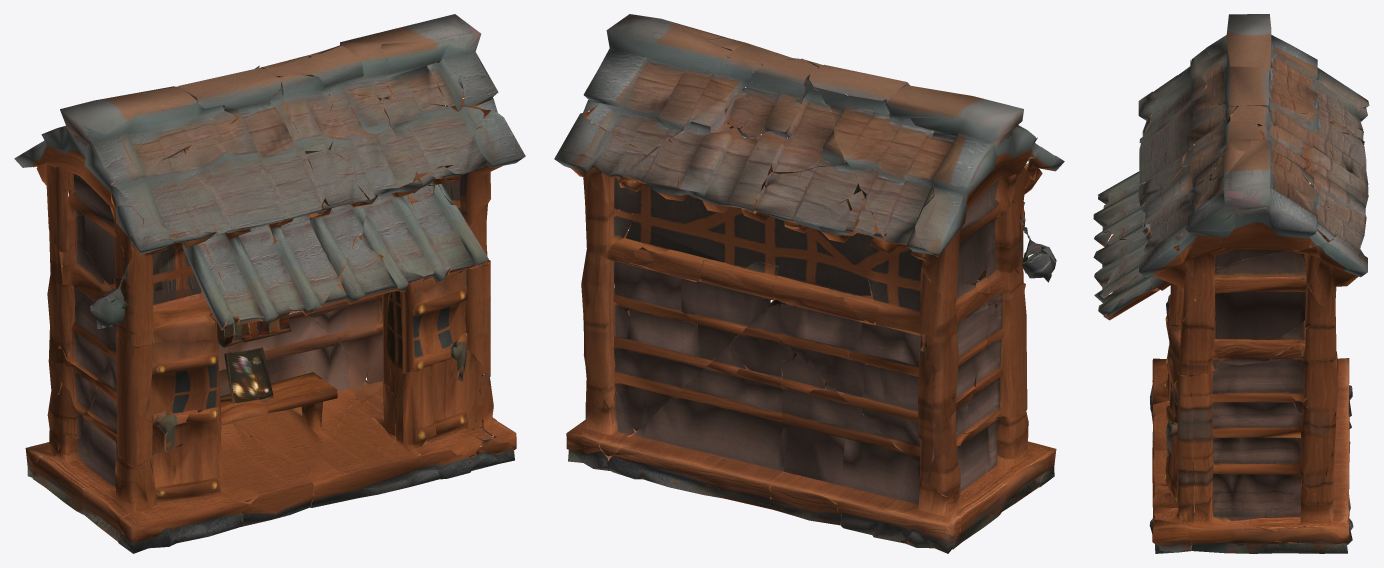
File: mesh_trade_post_a.glb
3 views of the same model, side by side, from view 1: azimuth 30°, elevation 25°; view 2: azimuth 150°, elevation 25°; view 3: azimuth 270°, elevation 25° (orthographic). The views are drawn at different scales.
Parts seen in each view (by area): view 1: mesh_trade_post_a__mesh_trade_post_a__Mesh_0; view 2: mesh_trade_post_a__mesh_trade_post_a__Mesh_0; view 3: mesh_trade_post_a__mesh_trade_post_a__Mesh_0.
Part boxes in pixels (x1,y1,x2,y2): mesh_trade_post_a__mesh_trade_post_a__Mesh_0: [14, 14, 525, 553]; mesh_trade_post_a__mesh_trade_post_a__Mesh_0: [554, 14, 1064, 553]; mesh_trade_post_a__mesh_trade_post_a__Mesh_0: [1093, 14, 1369, 553].
Bounding box in the file's own units: 16 × 15 × 10.26.
Materials: 1 (1 with a texture image).
